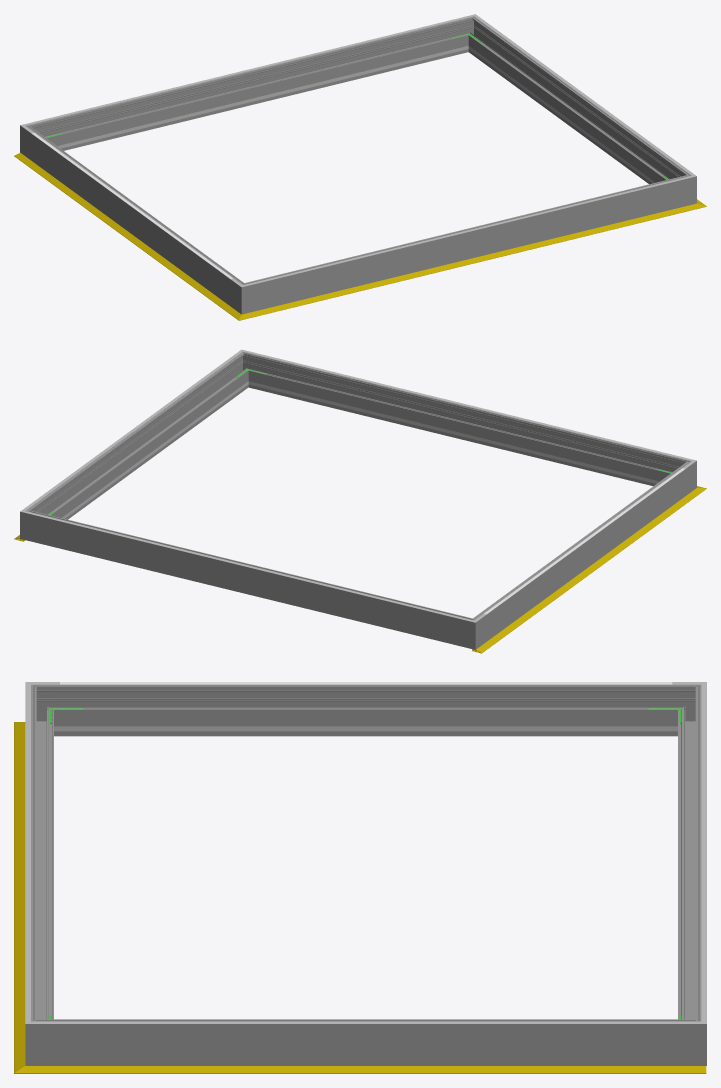
The picture shows the model from 3 angles, top to bottom: view 1: azimuth 30°, elevation 25°; view 2: azimuth 150°, elevation 25°; view 3: azimuth 270°, elevation 25°; orthographic projection. The views are drawn at different scales.
Visible parts, largest first — view 1: 3DGeom-276, 3DGeom-298, 3DGeom-297, 3DGeom-268, 3DGeom-28, 3DGeom-38, 3DGeom-244, 3DGeom-304, 3DGeom-316, 3DGeom-270, 3DGeom-303, 3DGeom-313 (+4 smaller); view 2: 3DGeom-298, 3DGeom-276, 3DGeom-297, 3DGeom-268, 3DGeom-38, 3DGeom-239, 3DGeom-304, 3DGeom-316, 3DGeom-278, 3DGeom-313, 3DGeom-303, 3DGeom-237 (+3 smaller); view 3: 3DGeom-268, 3DGeom-297, 3DGeom-276, 3DGeom-298, 3DGeom-30, 3DGeom-28, 3DGeom-232, 3DGeom-304, 3DGeom-316, 3DGeom-313, 3DGeom-303, 3DGeom-284 (+3 smaller).
Part boxes in pixels (left/top/right/bottom): 3DGeom-276: left=41, top=20, right=465, bottom=150; 3DGeom-298: left=257, top=178, right=677, bottom=309; 3DGeom-297: left=470, top=23, right=682, bottom=184; 3DGeom-268: left=31, top=132, right=236, bottom=305; 3DGeom-28: left=255, top=206, right=687, bottom=315; 3DGeom-38: left=14, top=152, right=233, bottom=312; 3DGeom-244: left=64, top=50, right=449, bottom=147; 3DGeom-304: left=40, top=19, right=457, bottom=121; 3DGeom-316: left=260, top=179, right=676, bottom=282; 3DGeom-270: left=230, top=277, right=260, bottom=314; 3DGeom-303: left=484, top=22, right=684, bottom=168; 3DGeom-313: left=31, top=133, right=232, bottom=278; 3DGeom-298: left=251, top=355, right=675, bottom=486; 3DGeom-276: left=39, top=513, right=459, bottom=644; 3DGeom-297: left=34, top=358, right=246, bottom=519; 3DGeom-268: left=481, top=467, right=685, bottom=641; 3DGeom-38: left=472, top=493, right=695, bottom=653; 3DGeom-239: left=267, top=386, right=652, bottom=482; 3DGeom-304: left=40, top=515, right=457, bottom=617; 3DGeom-316: left=260, top=354, right=676, bottom=456; 3DGeom-278: left=456, top=613, right=486, bottom=649; 3DGeom-313: left=484, top=468, right=685, bottom=614; 3DGeom-303: left=31, top=358, right=232, bottom=503; 3DGeom-237: left=62, top=389, right=237, bottom=518; 3DGeom-268: left=60, top=684, right=672, bottom=736; 3DGeom-297: left=60, top=1019, right=672, bottom=1065; 3DGeom-276: left=678, top=696, right=701, bottom=1019; 3DGeom-298: left=31, top=696, right=53, bottom=1019; 3DGeom-30: left=48, top=1066, right=706, bottom=1073; 3DGeom-28: left=14, top=734, right=25, bottom=1058; 3DGeom-232: left=87, top=726, right=644, bottom=731; 3DGeom-304: left=701, top=696, right=706, bottom=1009; 3DGeom-316: left=25, top=696, right=30, bottom=1009; 3DGeom-313: left=60, top=682, right=672, bottom=684; 3DGeom-303: left=60, top=1021, right=672, bottom=1023; 3DGeom-284: left=672, top=1009, right=706, bottom=1065.
Bounding box in the file's own units: 3.66 × 0.2195 × 3.05.
